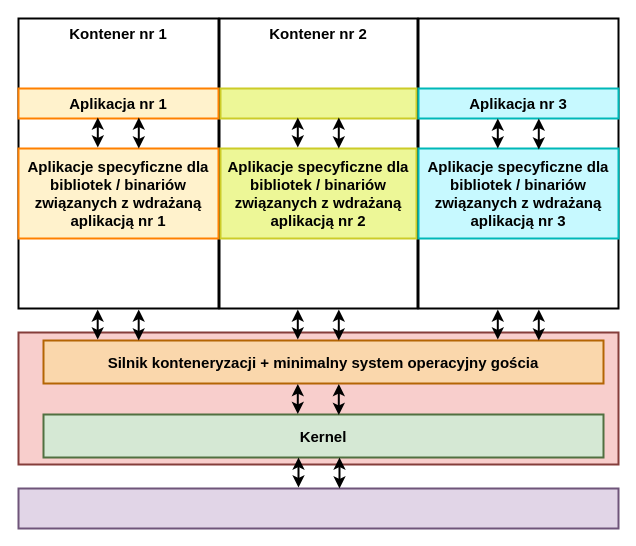
The diagram is 636 pixels wide and 546 high, and some of its shapes have lost their labels. Here are the shapes that lost their labels. From the top down, the box of each, then its label:
(219, 87, 417, 119): Aplikacja nr 2
(417, 17, 619, 309): Kontener nr 3
(17, 331, 619, 465): System operacyjny jednostki fizycznej
(17, 487, 619, 529): Zasoby sprzętowe jednostki fizycznej
